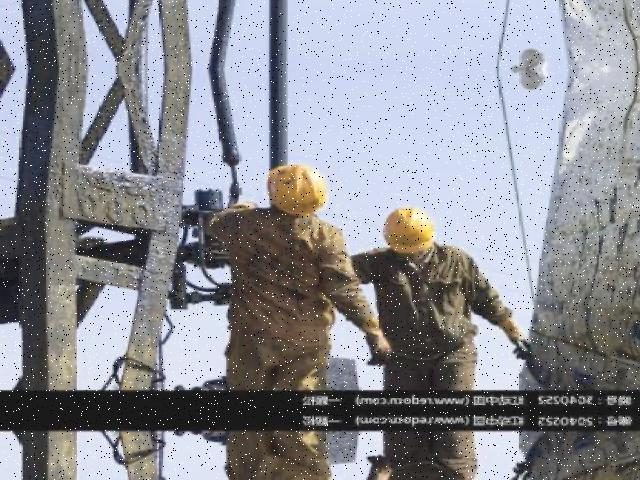Helmet: (265, 160, 335, 221), (381, 200, 442, 257)
